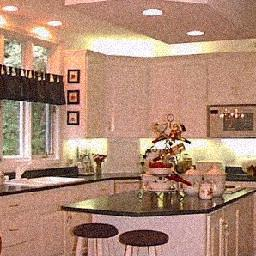Lavaplatos: (2, 160, 81, 196)
